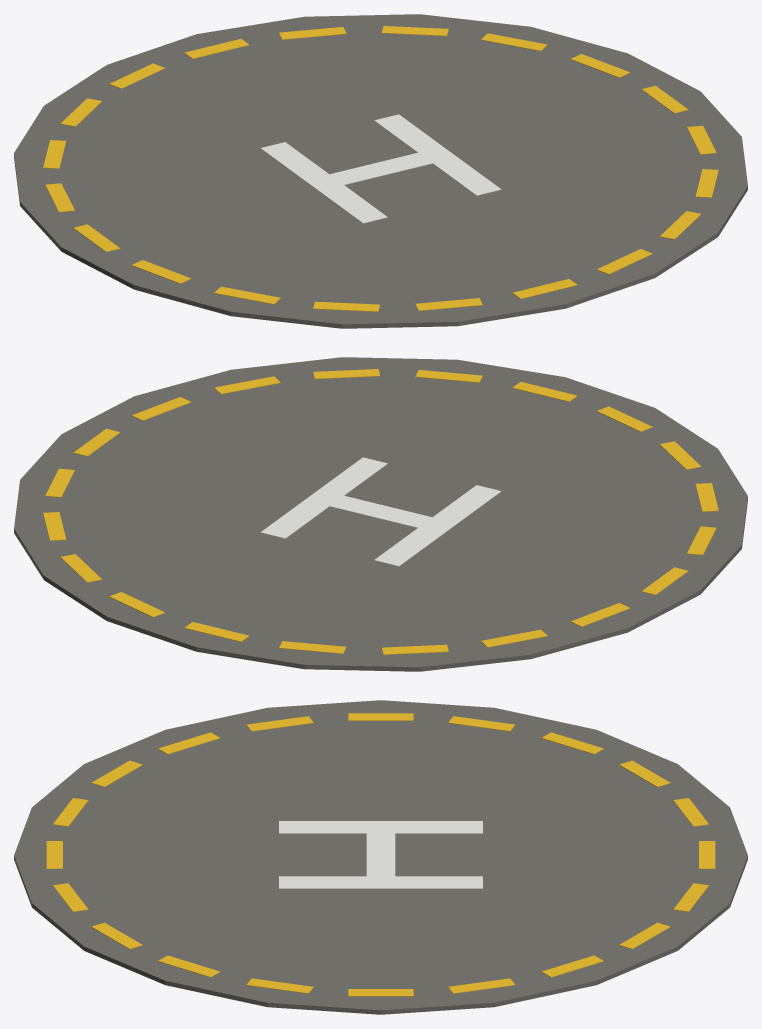
The model's file is prop_helipad.glb.
The picture shows the model from 3 angles, top to bottom: view 1: azimuth 30°, elevation 25°; view 2: azimuth 150°, elevation 25°; view 3: azimuth 270°, elevation 25°; orthographic projection.
Visible parts, largest first — view 1: prop_helipad__mesh; view 2: prop_helipad__mesh; view 3: prop_helipad__mesh.
Part boxes in pixels (x1,y1,x2,y2): prop_helipad__mesh: (14,14,747,328); prop_helipad__mesh: (14,357,747,671); prop_helipad__mesh: (14,700,747,1014).
Size of the model in its own units: 18 by 0.135 by 18.
